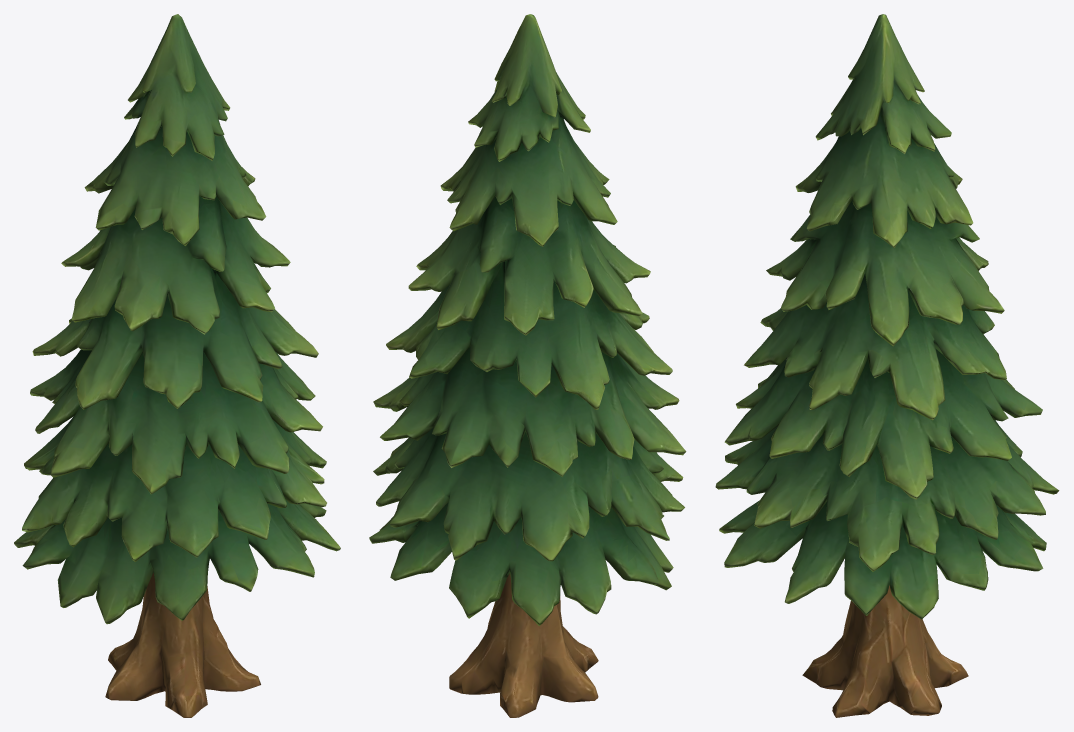
Rendered from pino.glb.
3 views of the same model, side by side, from view 1: azimuth 30°, elevation 25°; view 2: azimuth 150°, elevation 25°; view 3: azimuth 270°, elevation 25° (orthographic).
Visible parts, largest first — view 1: tripo_node_19982d0f-6e65-4447-a9a3-054b0da8116b; view 2: tripo_node_19982d0f-6e65-4447-a9a3-054b0da8116b; view 3: tripo_node_19982d0f-6e65-4447-a9a3-054b0da8116b.
Boxes of the visible parts, x1=… form: tripo_node_19982d0f-6e65-4447-a9a3-054b0da8116b: x1=14, y1=14, x2=340, y2=717; tripo_node_19982d0f-6e65-4447-a9a3-054b0da8116b: x1=369, y1=14, x2=686, y2=717; tripo_node_19982d0f-6e65-4447-a9a3-054b0da8116b: x1=715, y1=14, x2=1059, y2=717.
Bounding box in the file's own units: 0.4564 × 1 × 0.4626.
Materials: 1 (1 with a texture image).
